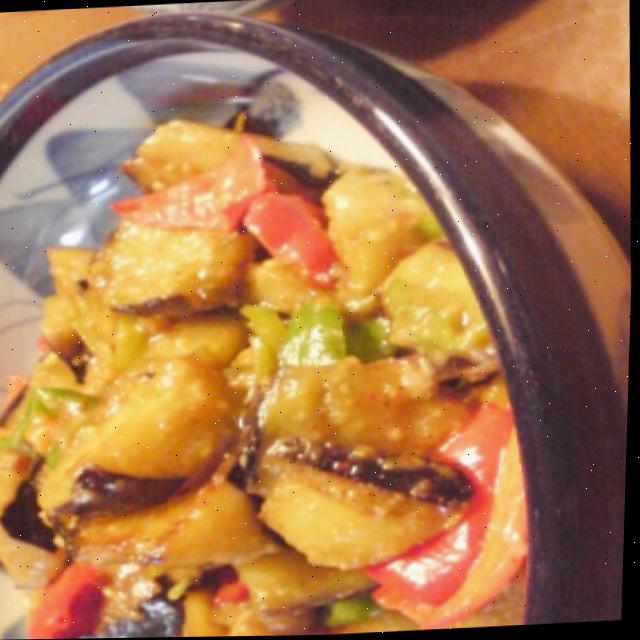鸡蛋料理: (0, 85, 516, 640)
